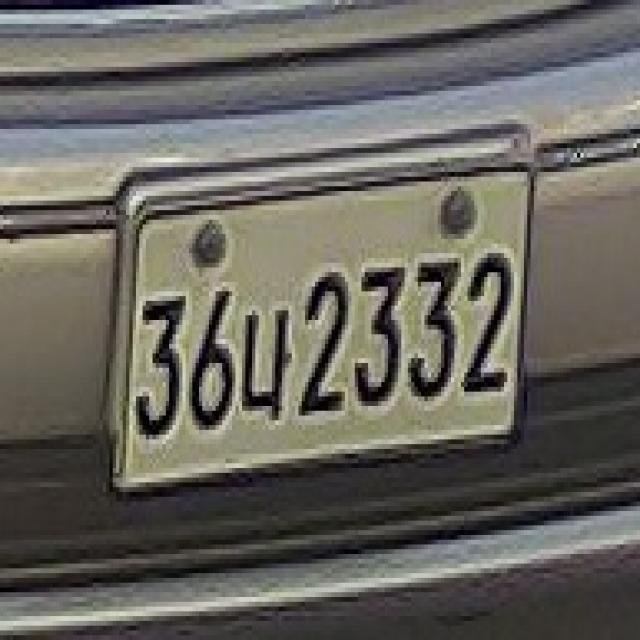2: (464, 248, 511, 396), (302, 268, 345, 420)
3: (136, 287, 186, 444), (355, 262, 408, 410), (411, 253, 461, 406)
6: (189, 291, 235, 430)
license_plate: (109, 162, 534, 488)
na: (239, 306, 292, 420)
